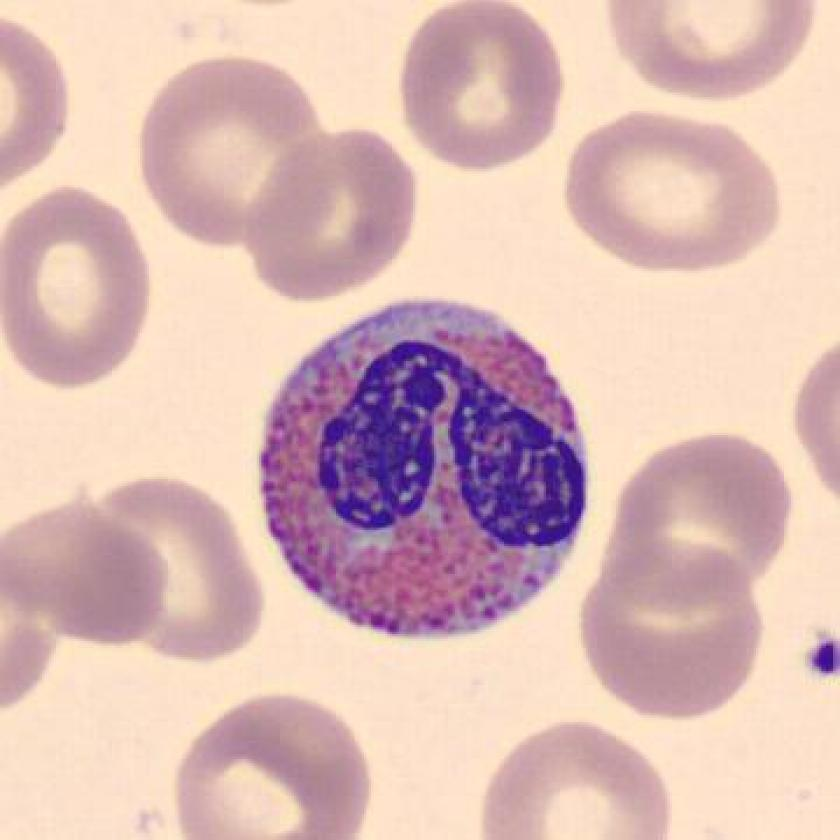eosinophil: (251, 288, 598, 658)
